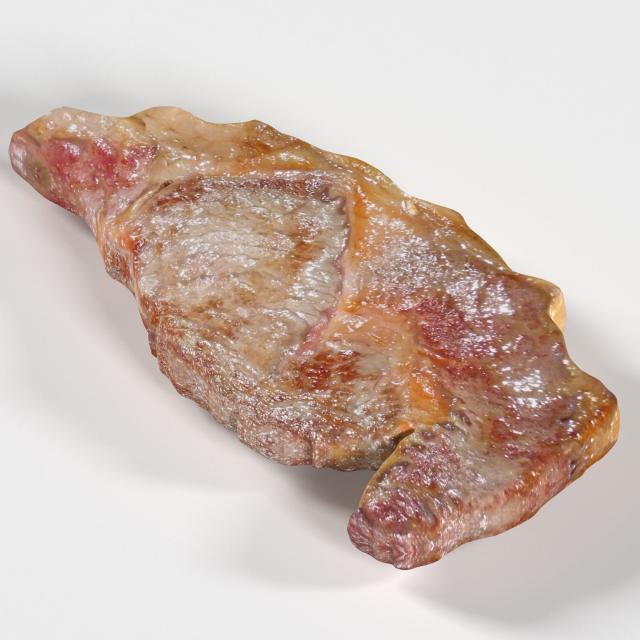carne de cerdo: (9, 59, 633, 570)
